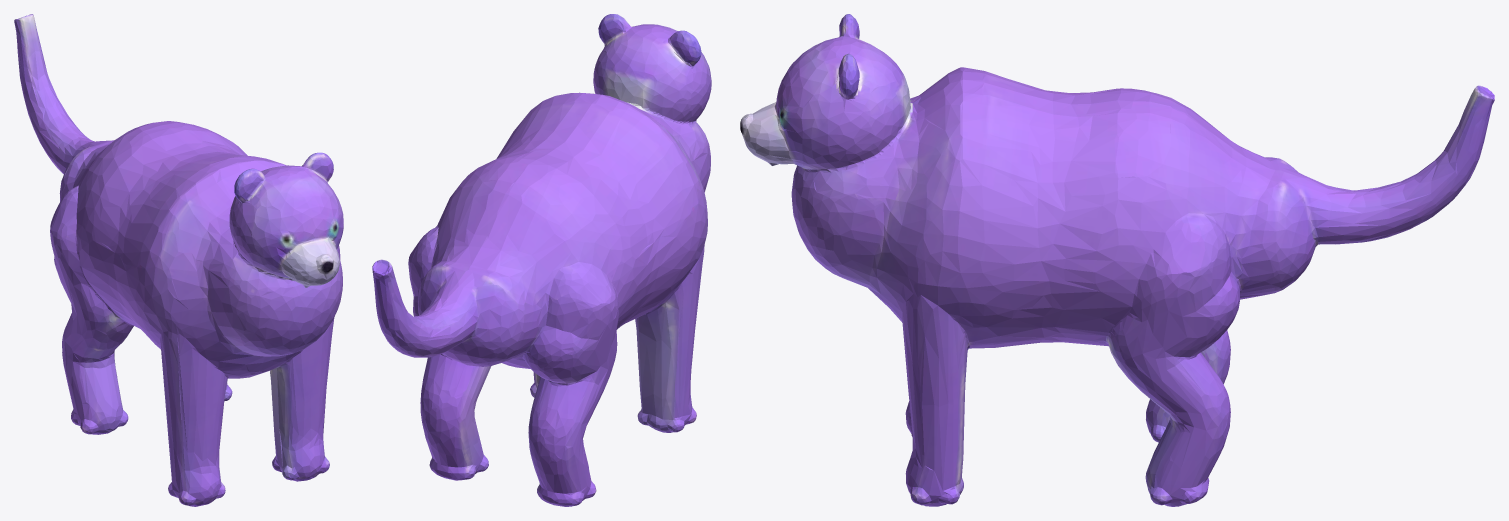
The model's file is creature-027.lod.glb.
3 renders of one model, left to right at view 1: azimuth 30°, elevation 25°; view 2: azimuth 150°, elevation 25°; view 3: azimuth 270°, elevation 25°, orthographic. The views are drawn at different scales.
Visible parts, largest first — view 1: tmpp299hmk9.ply; view 2: tmpp299hmk9.ply; view 3: tmpp299hmk9.ply.
Part boxes in pixels (<box>): tmpp299hmk9.ply: <box>14,14,343,506</box>; tmpp299hmk9.ply: <box>372,14,711,506</box>; tmpp299hmk9.ply: <box>740,14,1494,506</box>.
Bounding box in the file's own units: 0.722 × 1.27 × 1.99.
1 material, 1 textured.
